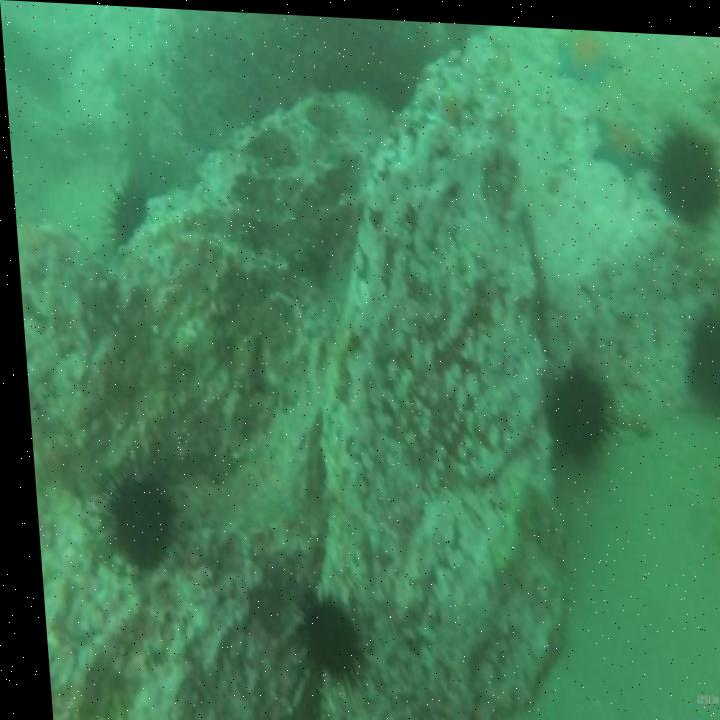echinus: (83, 452, 182, 582), (279, 584, 364, 699), (536, 347, 612, 470), (647, 117, 720, 229), (673, 287, 720, 421), (92, 169, 149, 258)
holothurian: (476, 472, 527, 575)
starfish: (585, 102, 656, 181), (551, 22, 624, 87)
